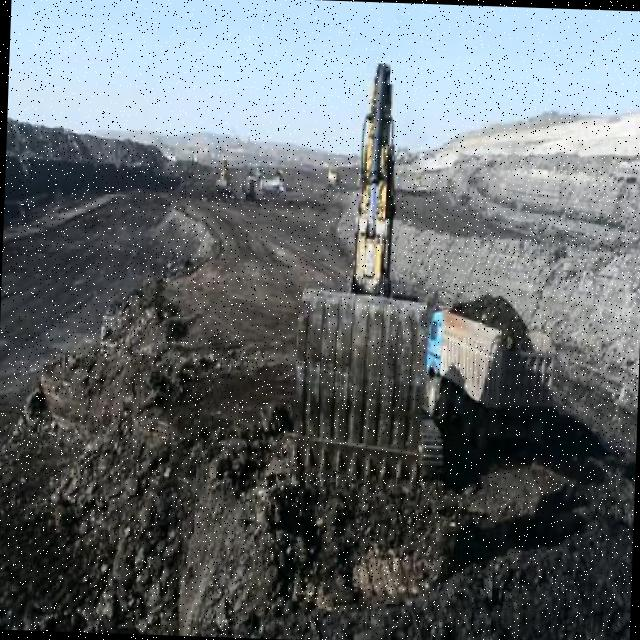Dump Truck: (425, 303, 555, 432)
Excavator: (286, 42, 459, 516)
